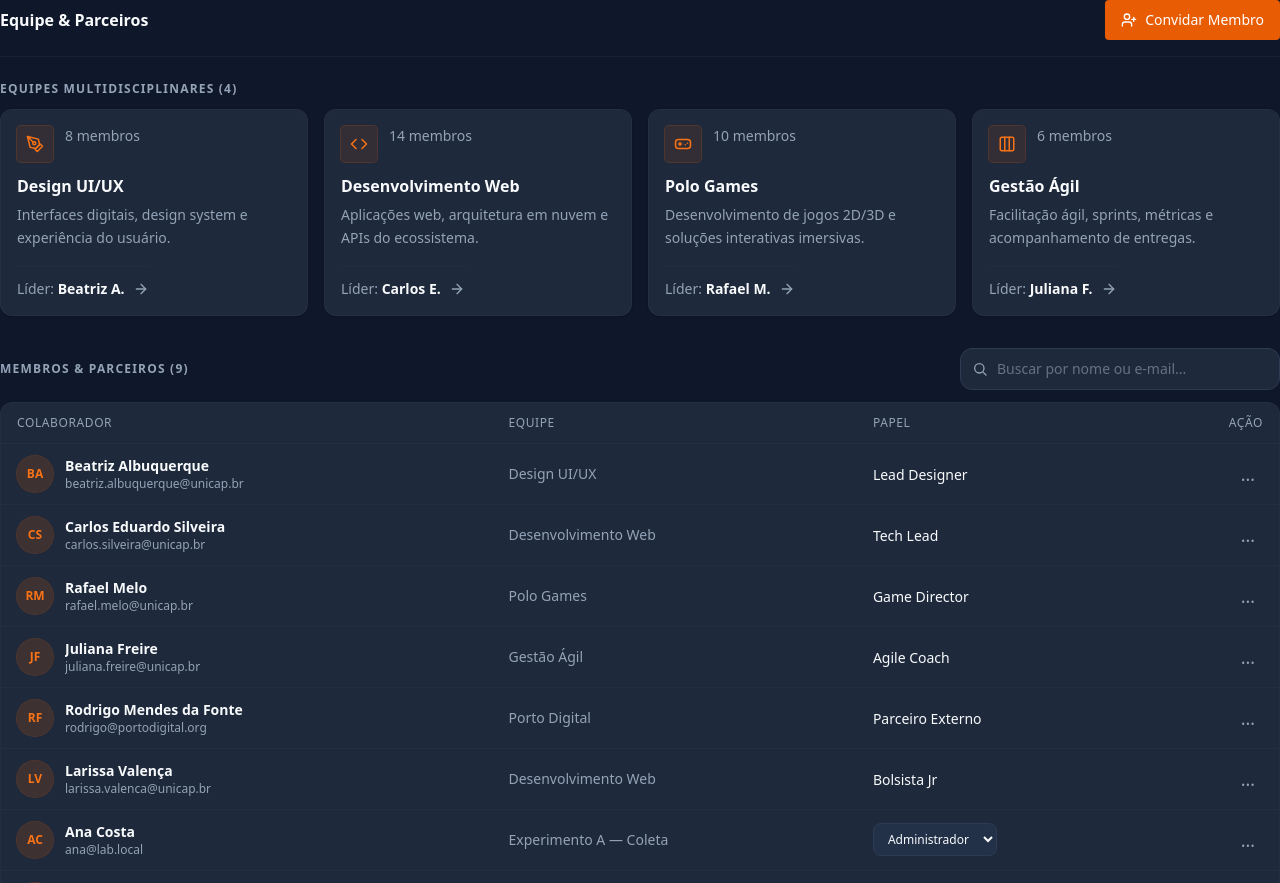
Scenario: Equipe & Parceiros (janela) › busca por nome ou e-mail
This screenshot has width=1280, height=883.
Step 1. Type "rodrigo" into the search field named "Buscar membro por nome ou e-mail" → {"x": 1120, "y": 368}, box left=960, top=348, right=1279, bottom=390
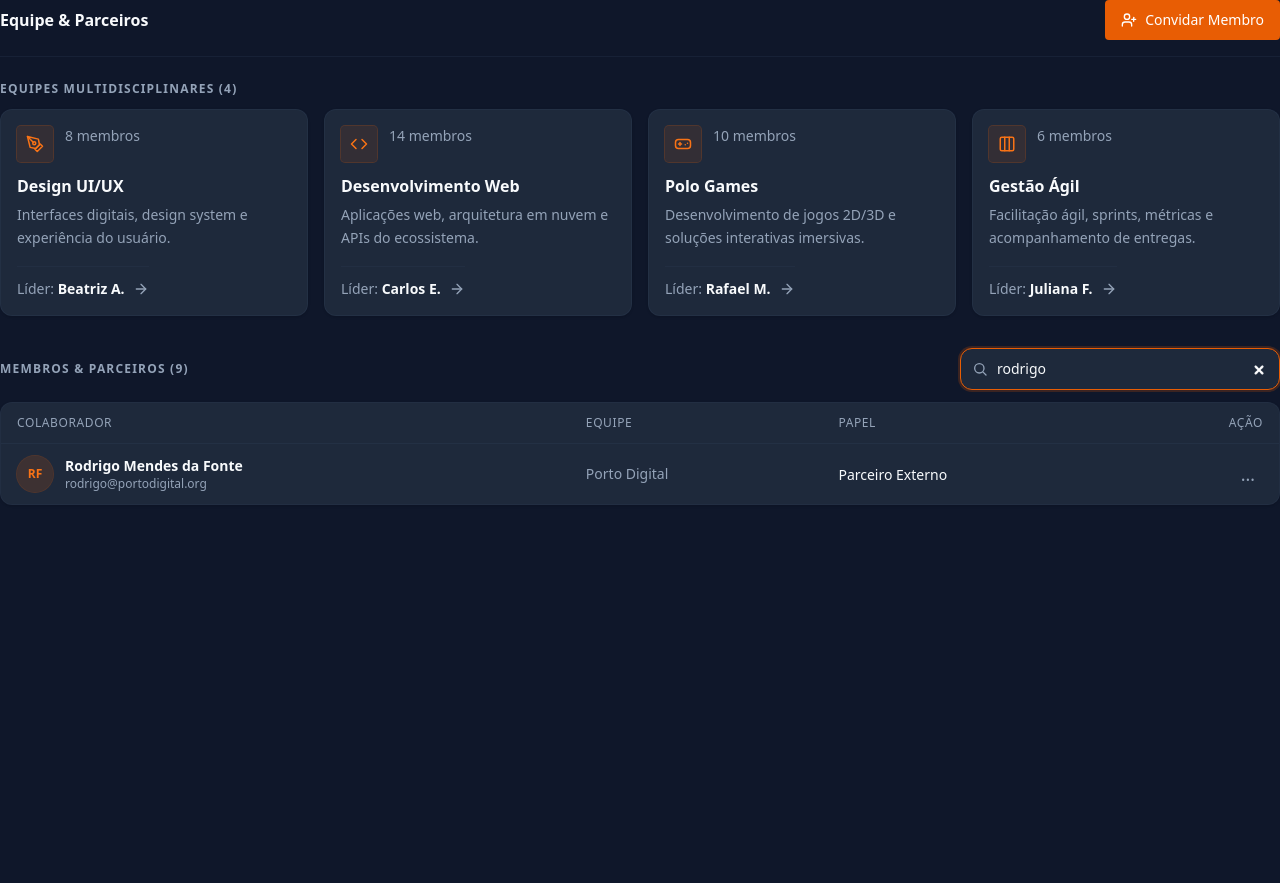
Expected: the text "Rodrigo Mendes da Fonte" is shown, left=65, top=456, right=243, bottom=476
Expected: the text "Beatriz Albuquerque" is gone
Expected: the text "Ana Costa" is gone
